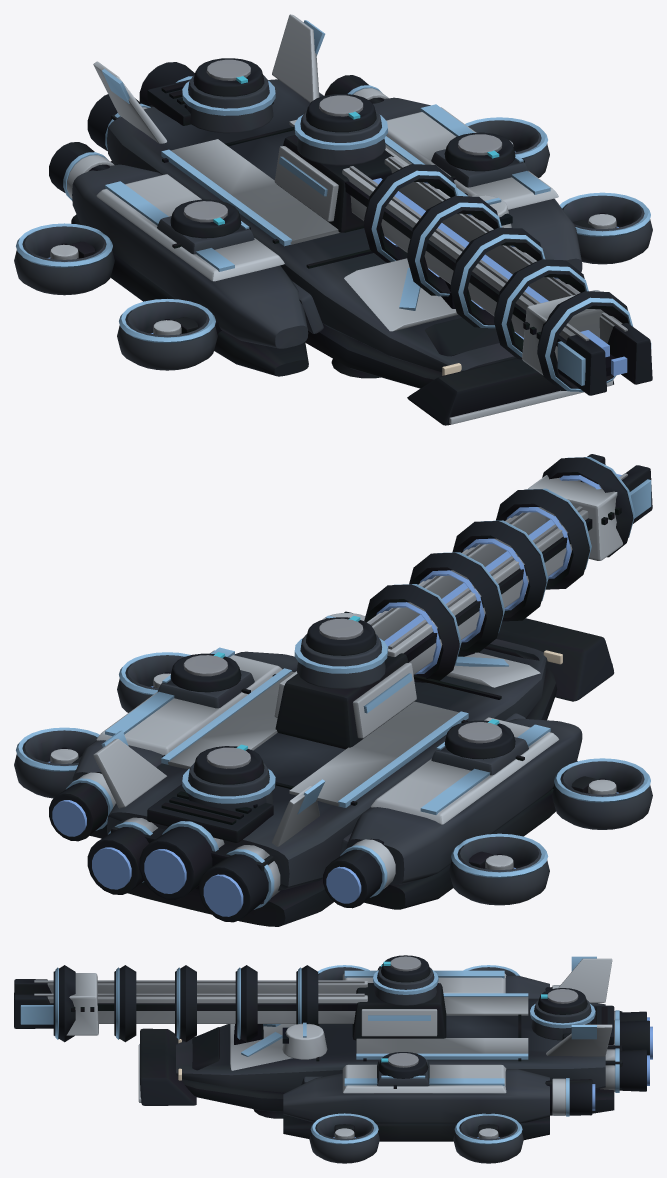
The model's file is ex_lancer_6.glb.
3 views of the same model, one above another, from view 1: azimuth 30°, elevation 25°; view 2: azimuth 150°, elevation 25°; view 3: azimuth 270°, elevation 25° (orthographic). The views are drawn at different scales.
Parts seen in each view (by area): view 1: body; view 2: body; view 3: body.
Boxes of the visible parts, x1=… form: body: x1=14, y1=14, x2=652, y2=425; body: x1=14, y1=454, x2=652, y2=926; body: x1=14, y1=955, x2=652, y2=1163.
Size of the model in its own units: 9.2 by 3.02 by 13.94.
